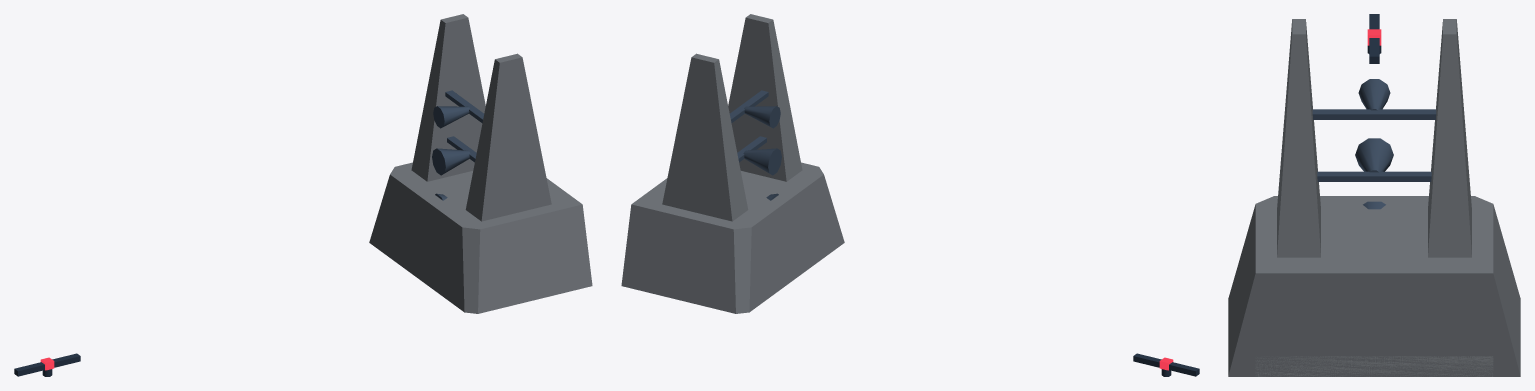
The model's file is TG_Siren.glb.
3 renders of one model, left to right at view 1: azimuth 30°, elevation 25°; view 2: azimuth 150°, elevation 25°; view 3: azimuth 270°, elevation 25°, orthographic. The views are drawn at different scales.
Visible parts, largest first — view 1: TG_Siren__base, TG_Siren__blades, TG_Siren__horns, TG_Siren__beacon_bar; view 2: TG_Siren__base, TG_Siren__blades, TG_Siren__horns, TG_Siren__beacon_bar; view 3: TG_Siren__base, TG_Siren__blades, TG_Siren__horns, TG_Siren__body, TG_Siren__beacon_bar.
Boxes of the visible parts, bbox=[...] form: TG_Siren__base: bbox=[369, 162, 592, 313]; TG_Siren__blades: bbox=[411, 14, 551, 221]; TG_Siren__horns: bbox=[432, 90, 484, 200]; TG_Siren__beacon_bar: bbox=[14, 353, 80, 376]; TG_Siren__base: bbox=[621, 162, 844, 313]; TG_Siren__blades: bbox=[662, 14, 802, 221]; TG_Siren__horns: bbox=[729, 90, 781, 200]; TG_Siren__beacon_bar: bbox=[1133, 353, 1199, 376]; TG_Siren__base: bbox=[1228, 196, 1520, 376]; TG_Siren__blades: bbox=[1277, 19, 1471, 257]; TG_Siren__horns: bbox=[1312, 79, 1436, 209]; TG_Siren__body: bbox=[1255, 356, 1493, 376]; TG_Siren__beacon_bar: bbox=[1367, 14, 1381, 63].
Bounding box in the file's own units: 36.8 × 15.5 × 12.8.
